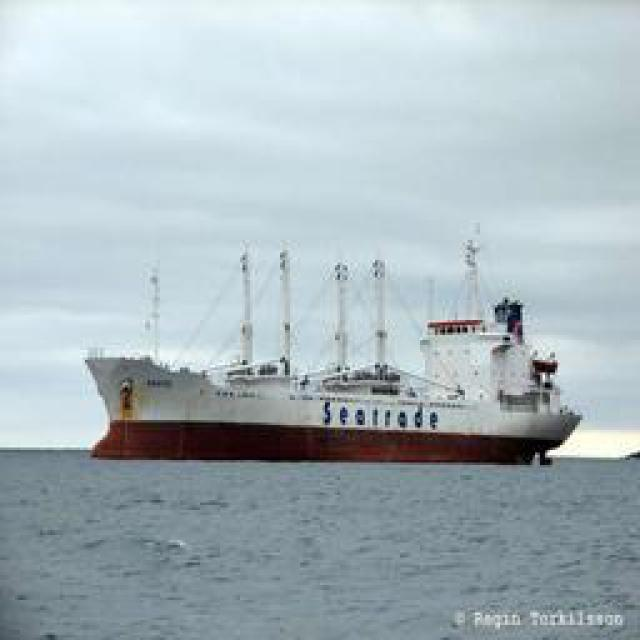Ship: (82, 223, 615, 468)
